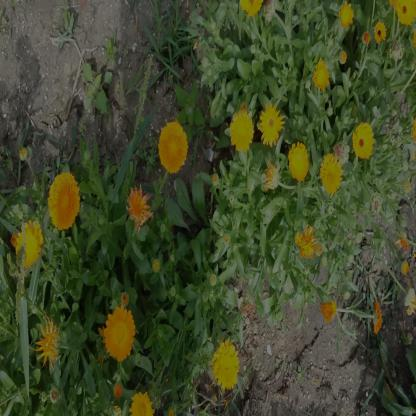marigold: (102, 304, 134, 360), (49, 174, 80, 230), (158, 120, 186, 170), (211, 340, 238, 388), (260, 99, 286, 144), (34, 320, 59, 363), (18, 224, 42, 267), (231, 107, 255, 149), (124, 188, 150, 225), (321, 154, 342, 197), (289, 138, 309, 180), (352, 121, 374, 159), (130, 394, 153, 416)
